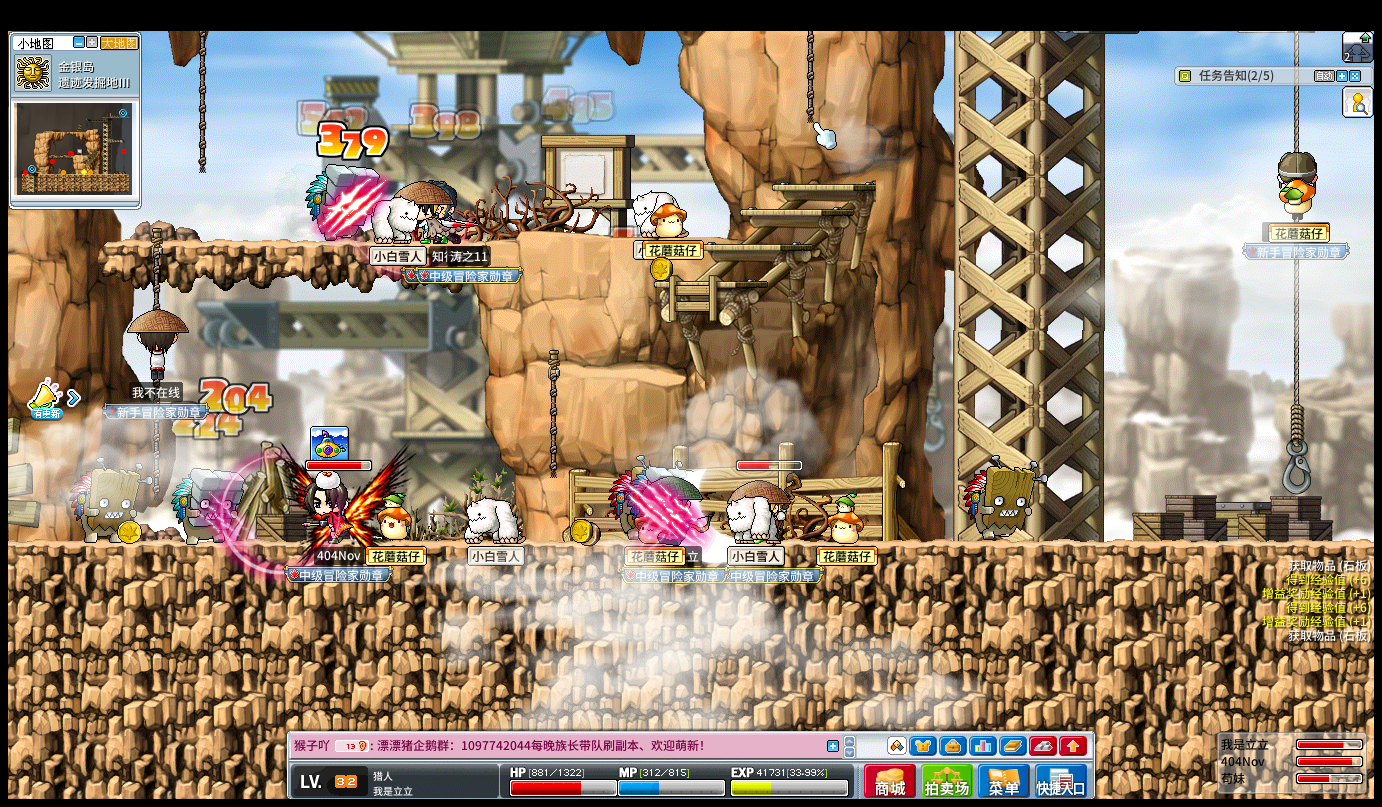floor: (107, 237, 473, 249), (578, 364, 687, 385), (650, 279, 764, 291), (738, 205, 852, 215), (649, 279, 766, 287), (699, 243, 809, 251), (736, 207, 848, 214), (771, 184, 875, 191)
monster: (963, 459, 1043, 541), (68, 461, 143, 542), (303, 164, 374, 240), (171, 468, 237, 543)
rope: (546, 350, 561, 481), (1290, 258, 1302, 406), (198, 30, 207, 173), (150, 227, 161, 308), (1292, 30, 1299, 148), (805, 29, 813, 124), (1289, 399, 1304, 444), (151, 417, 159, 494)
